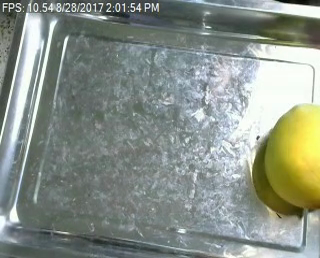Mango: (267, 103, 320, 210)
